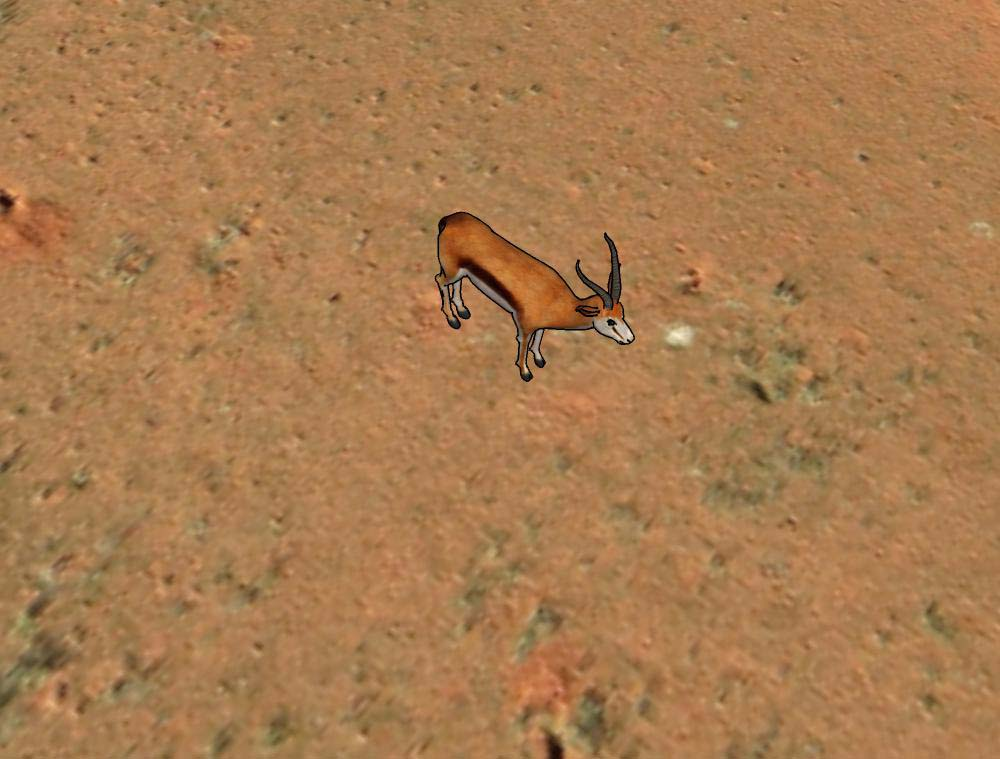springbok: (431, 205, 640, 387)
